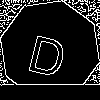D: (25, 25, 72, 79)
